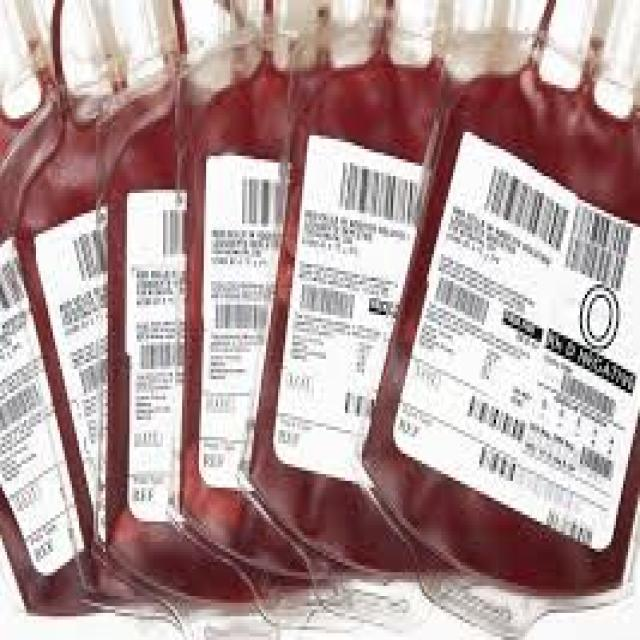B3: (387, 47, 639, 640)
